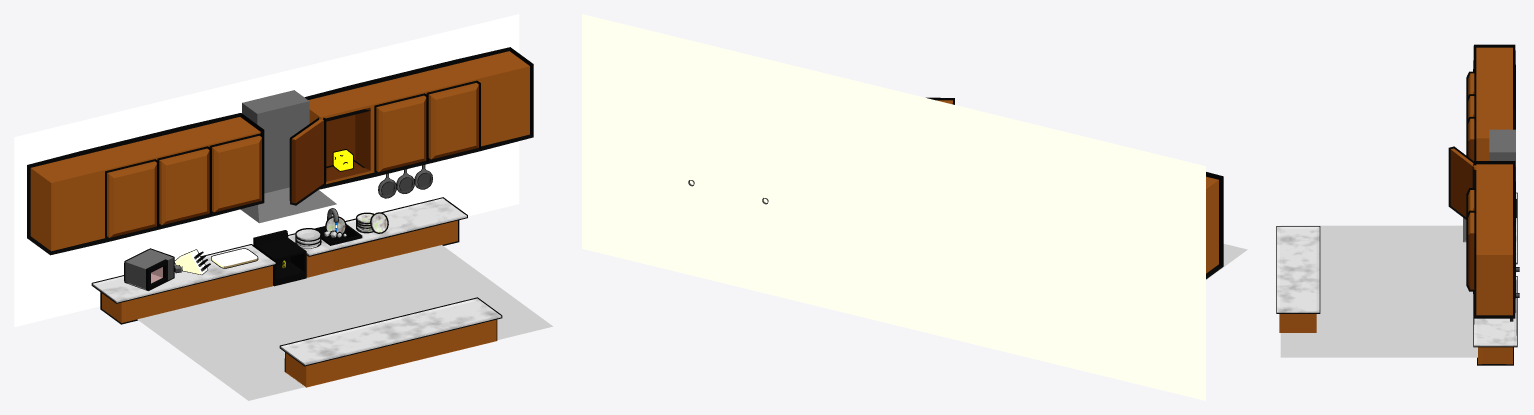
The model's file is Stage 1.fbx.
3 renders of one model, left to right at view 1: azimuth 30°, elevation 25°; view 2: azimuth 150°, elevation 25°; view 3: azimuth 270°, elevation 25°, orthographic. The views are drawn at different scales.
Visible parts, largest first — view 1: Bg, BgCabinents, Floor, Caninent doors, Bg CounterTop, Counter, Bg Counter, Cube, Bottom Counter, Open cabinent, MacroWave, Oven (+4 smaller); view 2: Bg, BgCabinents; view 3: Floor, BgCabinents, Counter, Caninent doors, Bg Counter, Open cabinent, Cube, Bottom Counter, Bg CounterTop.
Part boxes in pixels (x1,y1,x2,y2): Bg: [14, 14, 519, 326]; BgCabinents: [27, 47, 533, 255]; Floor: [137, 245, 552, 400]; Caninent doors: [105, 80, 480, 240]; Bg CounterTop: [100, 220, 459, 324]; Counter: [279, 297, 502, 366]; Bg Counter: [91, 197, 467, 303]; Cube: [240, 90, 336, 223]; Bottom Counter: [284, 319, 497, 387]; Open cabinent: [289, 117, 325, 205]; MacroWave: [124, 248, 174, 290]; Oven: [253, 230, 306, 286]; Bg: [582, 14, 1205, 400]; BgCabinents: [1206, 172, 1223, 279]; Floor: [1280, 225, 1477, 357]; BgCabinents: [1472, 44, 1515, 318]; Counter: [1276, 226, 1320, 313]; Caninent doors: [1466, 71, 1475, 291]; Bg Counter: [1473, 192, 1517, 347]; Open cabinent: [1448, 146, 1476, 219]; Cube: [1463, 129, 1515, 242]; Bottom Counter: [1279, 314, 1316, 332]; Bg CounterTop: [1477, 347, 1513, 365].
Bounding box in the file's own units: 8893 × 4190 × 3210.
25 materials, 7 textured.
